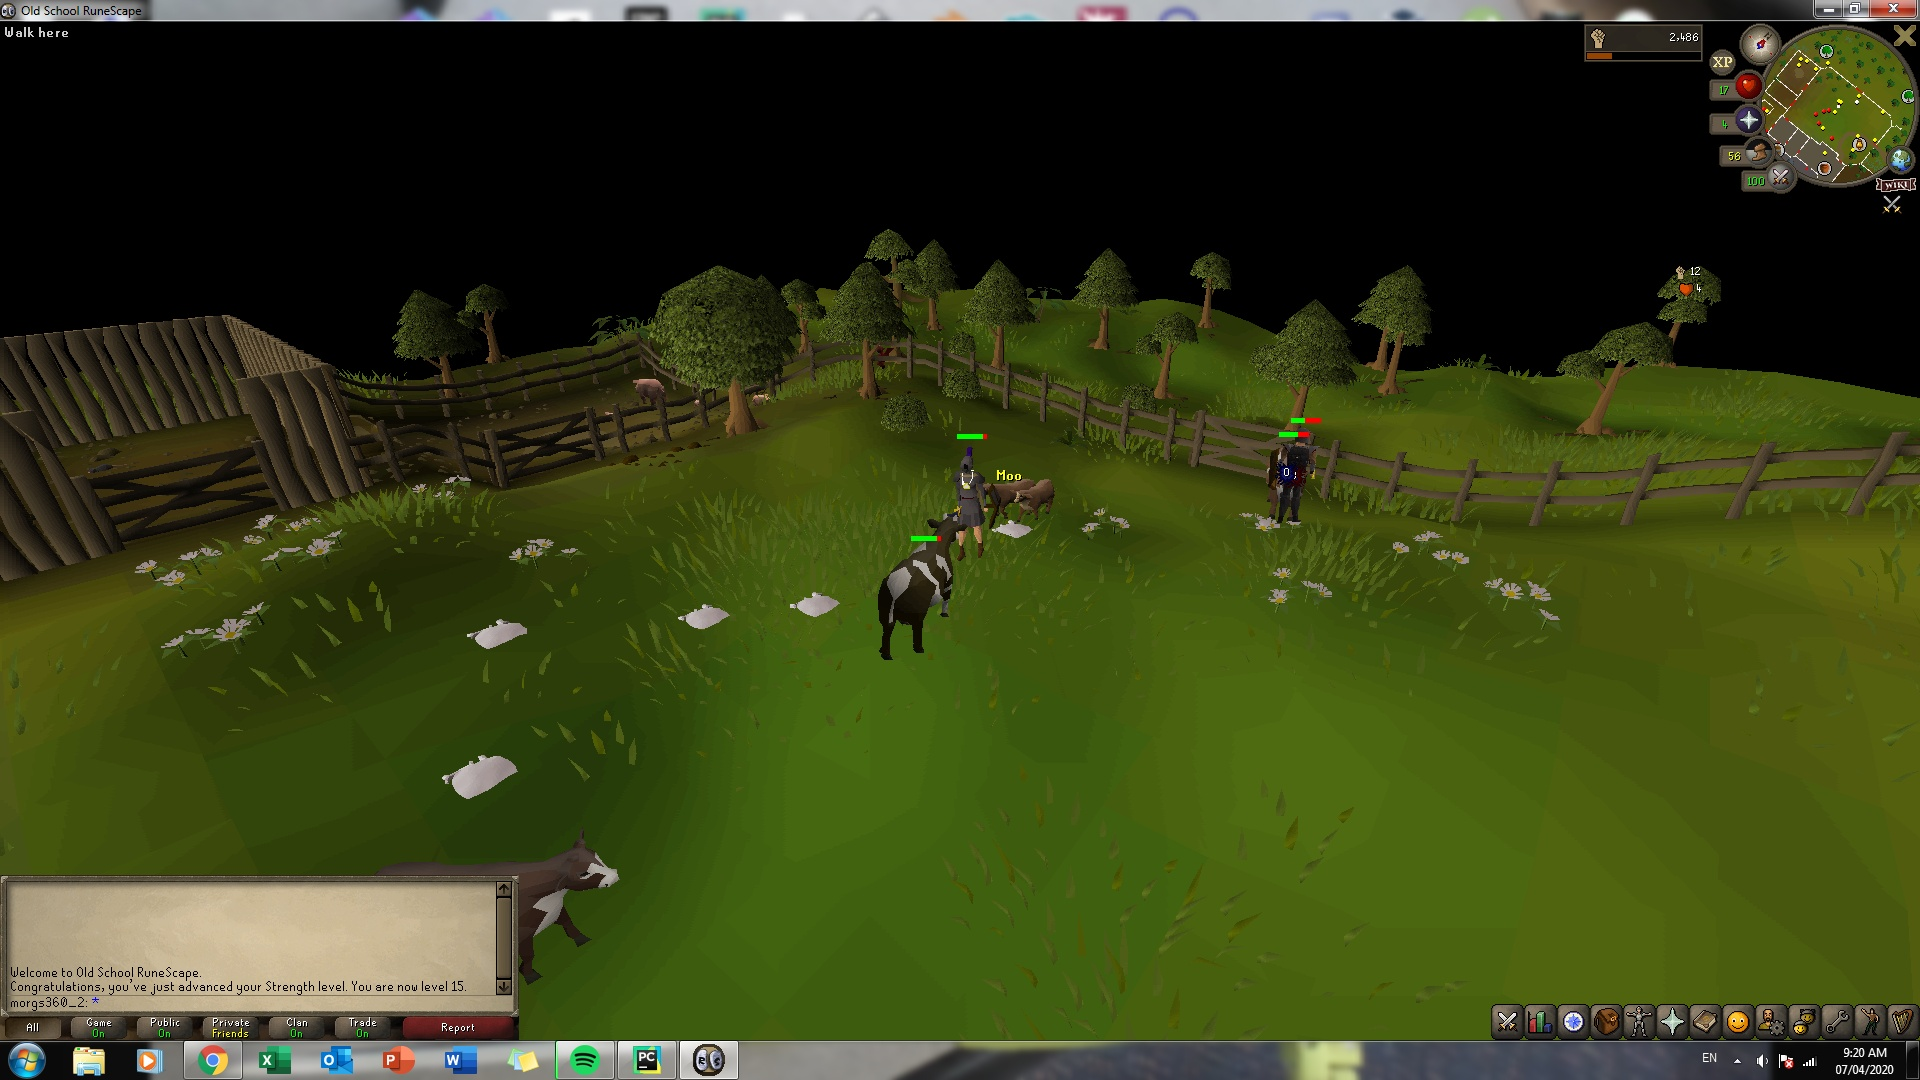cow: (519, 835, 620, 987), (878, 508, 966, 665), (1016, 478, 1059, 524), (987, 474, 1016, 532)
player: (957, 455, 985, 562)
